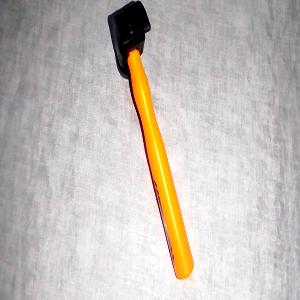martelo: (111, 0, 194, 281)
